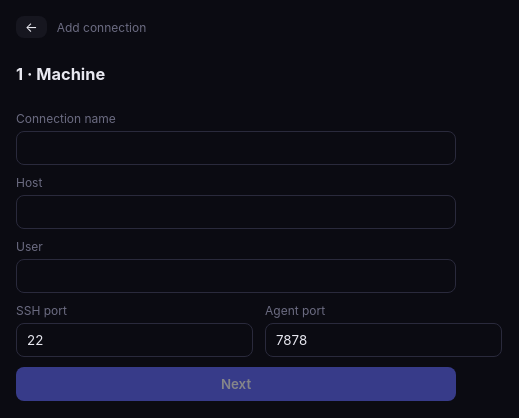
it: SetupWizard Steps 1-3 › Step 1 Next is disabled until connection name/host/user are valid
Expected: the button with test id "wiz-next" is disabled, [16,367,456,401]
Type "Studio Mini" into the field labelled "Connection name" at (236, 148), box [16,131,456,165]
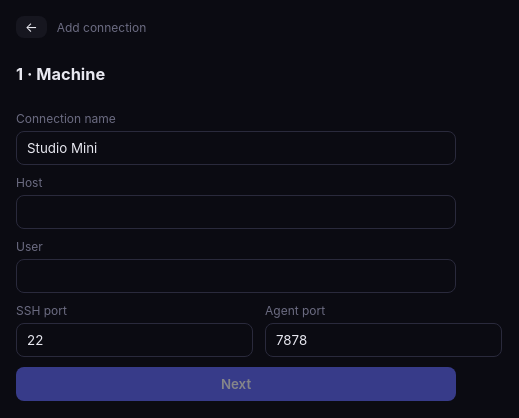
Type "studio-mini" into the field labelled "Host" at (236, 212), box [16,195,456,229]
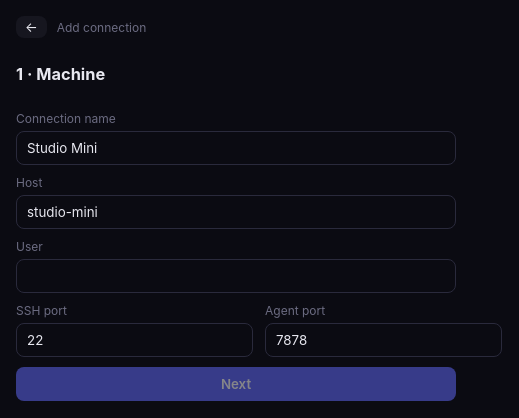
Type "rebin" into the field labelled "User" at (236, 276), box [16,259,456,293]
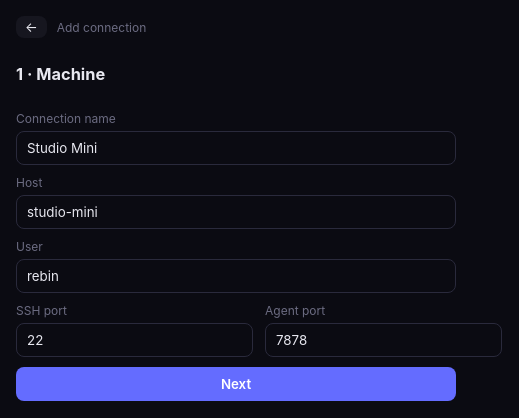
Expected: the button with test id "wiz-next" is enabled, [16,367,456,401]
